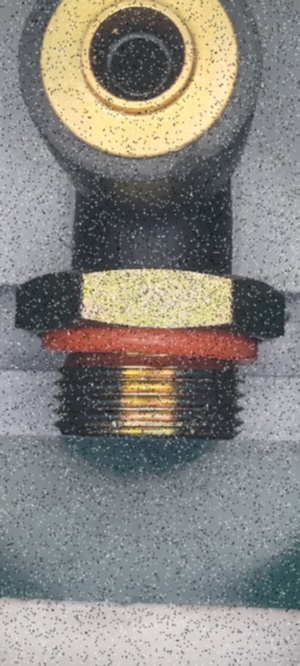bump: (163, 143, 223, 180)
joint line: (142, 218, 157, 269)
